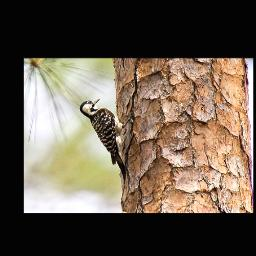Woodpecker: (79, 99, 135, 184)
